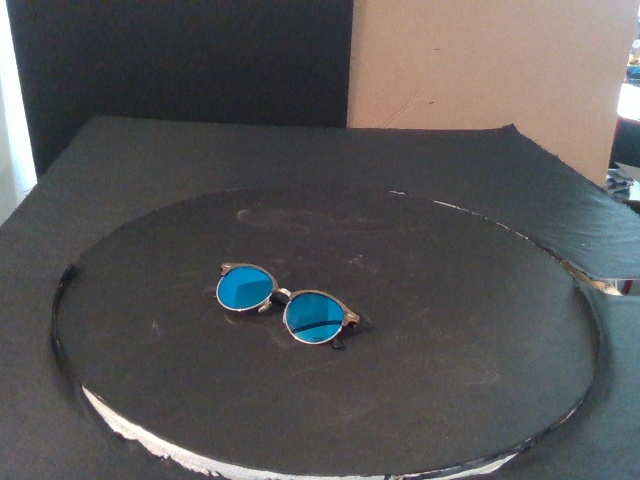glasses: (212, 261, 362, 348)
